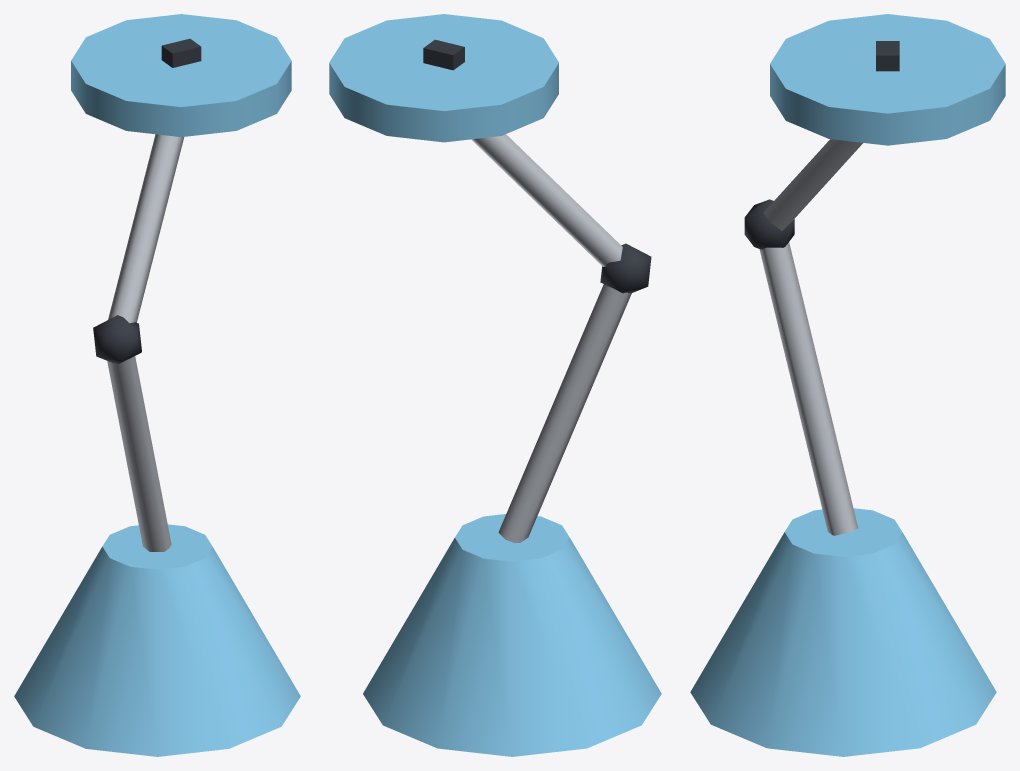
File: station_buffer_ausstattung_2_0.glb
3 renders of one model, left to right at view 1: azimuth 30°, elevation 25°; view 2: azimuth 150°, elevation 25°; view 3: azimuth 270°, elevation 25°, orthographic. The views are drawn at different scales.
Visible parts, largest first — view 1: station_buffer_ausstattung_2_0; view 2: station_buffer_ausstattung_2_0; view 3: station_buffer_ausstattung_2_0.
Part boxes in pixels (x1,y1,x2,y2): station_buffer_ausstattung_2_0: (14, 14, 300, 756); station_buffer_ausstattung_2_0: (329, 14, 661, 756); station_buffer_ausstattung_2_0: (690, 14, 1005, 756).
Bounding box in the file's own units: 0.2768 × 0.6245 × 0.2676.
